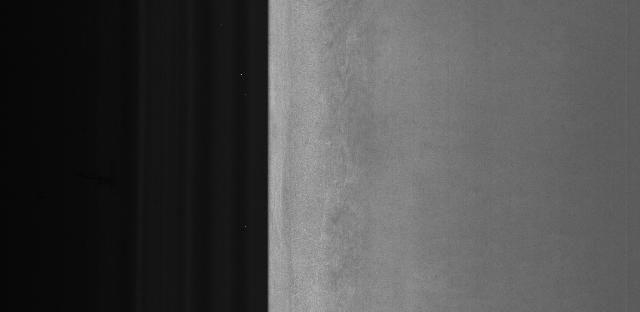silk_spot: (312, 25, 398, 281)
